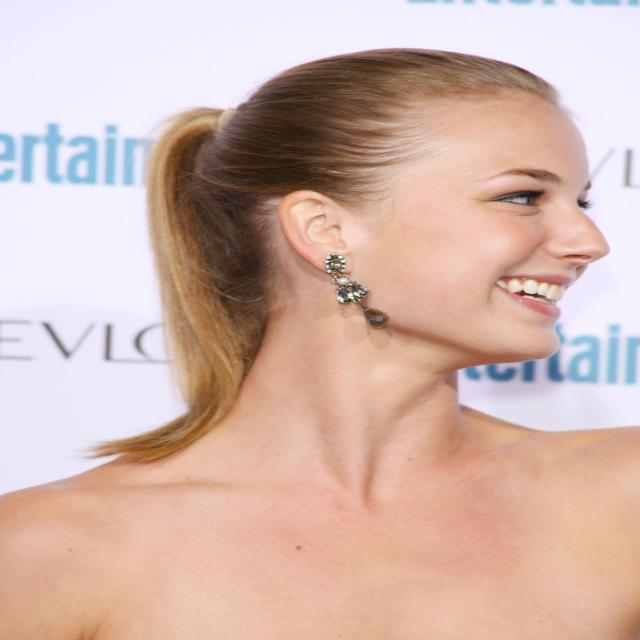no-earmuff: (250, 178, 410, 292)
